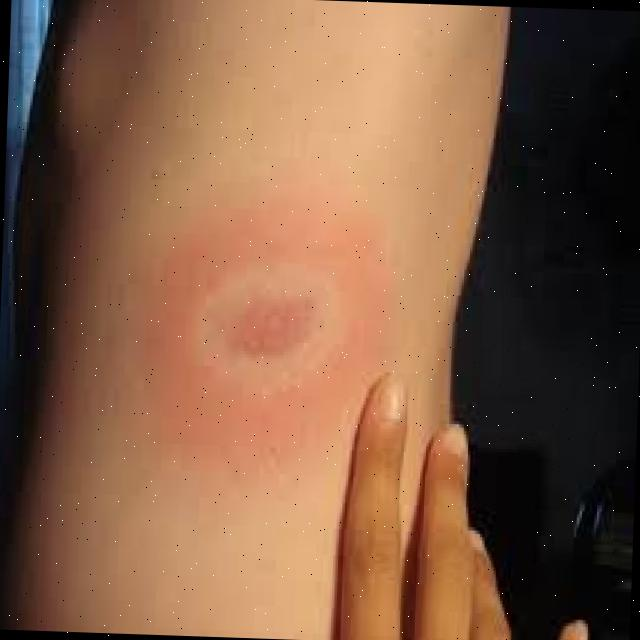kene: (167, 225, 360, 428)
